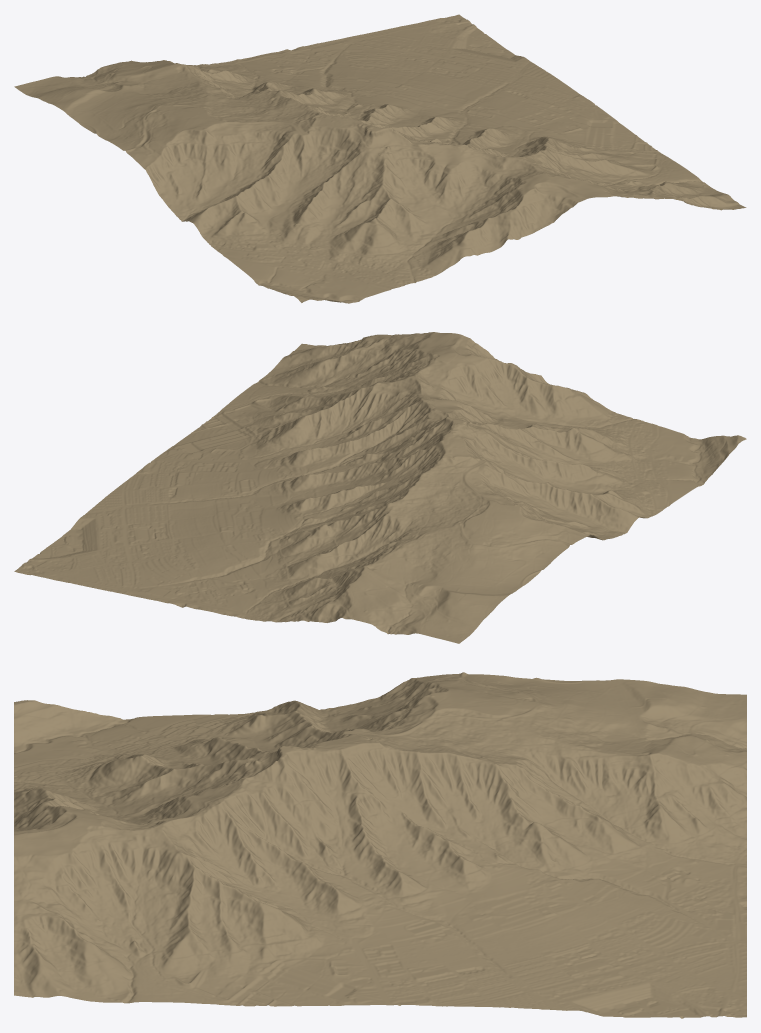
Rendered from terrain-high.glb.
3 renders of one model, top to bottom at view 1: azimuth 30°, elevation 25°; view 2: azimuth 150°, elevation 25°; view 3: azimuth 270°, elevation 25°, orthographic. The views are drawn at different scales.
Parts seen in each view (by area): view 1: Uetliberg_4m; view 2: Uetliberg_4m; view 3: Uetliberg_4m.
Part boxes in pixels (box(x1,y1,x2,y2)): Uetliberg_4m: box(14, 14, 746, 303); Uetliberg_4m: box(14, 332, 746, 643); Uetliberg_4m: box(14, 672, 746, 1018).
Size of the model in its own units: 2500 by 447 by 2800.
